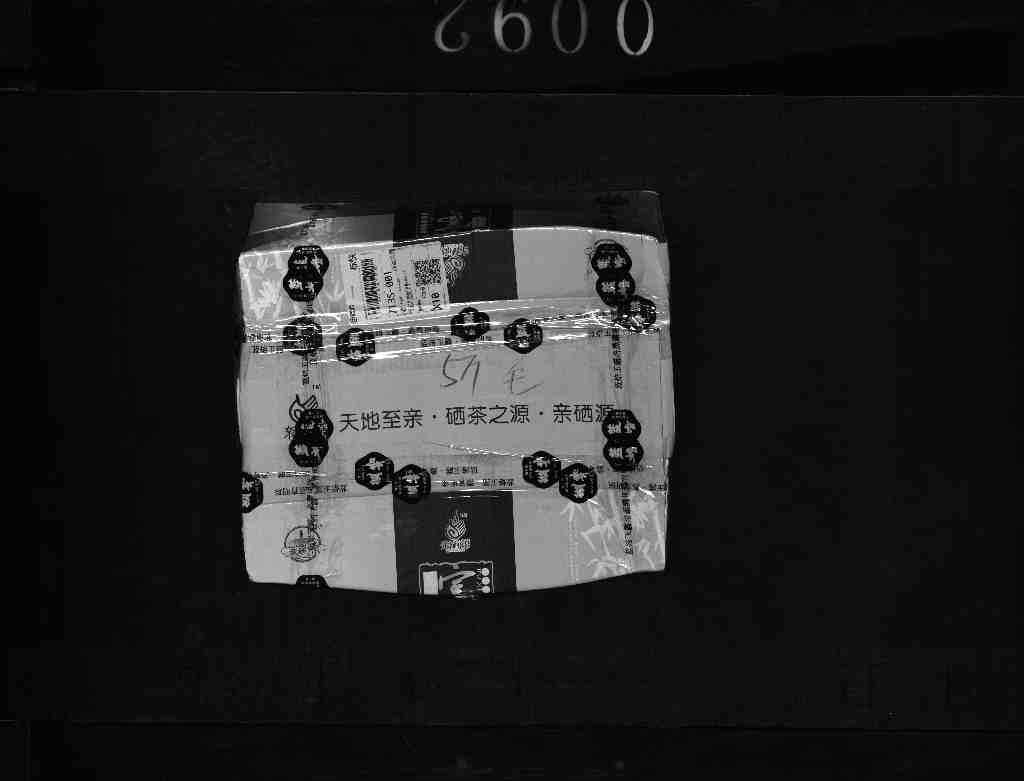box: (204, 178, 682, 601)
